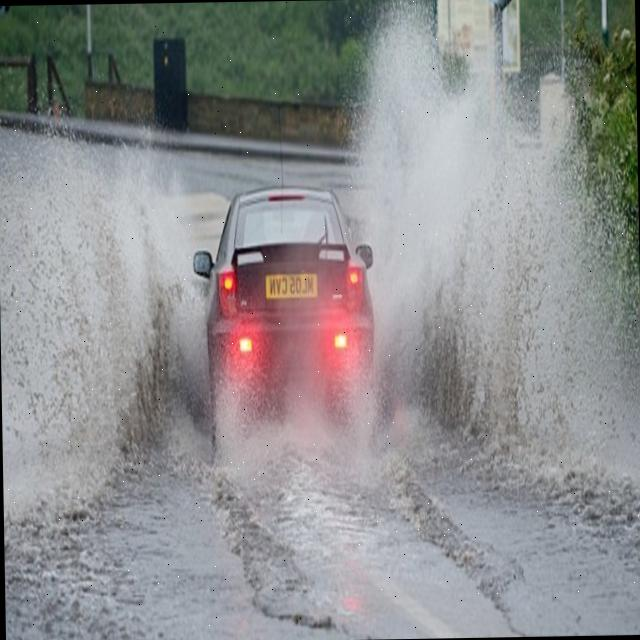car: (195, 184, 381, 454)
